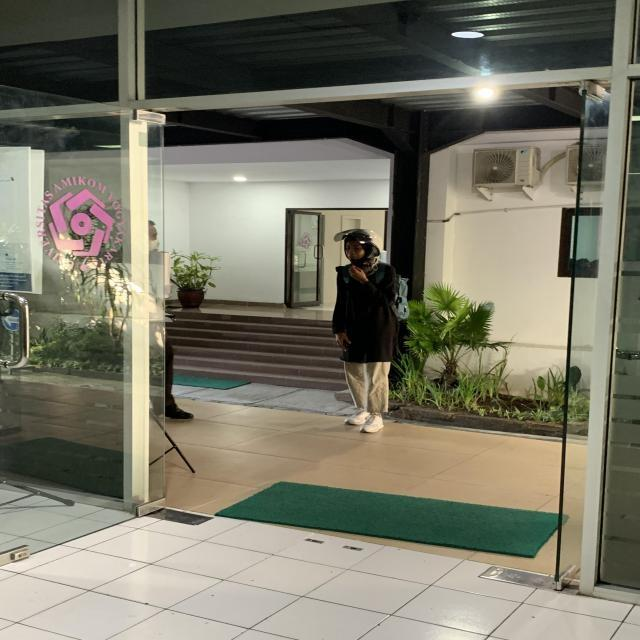hairnet: (334, 230, 382, 269)
